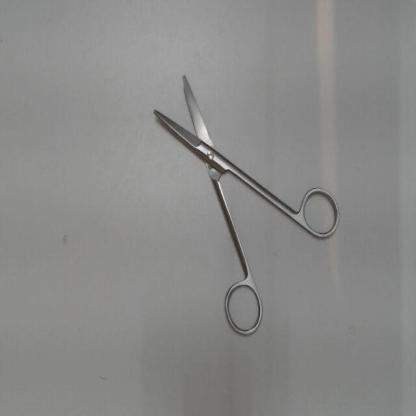Curved Mayo Scissors: (145, 64, 346, 345)
